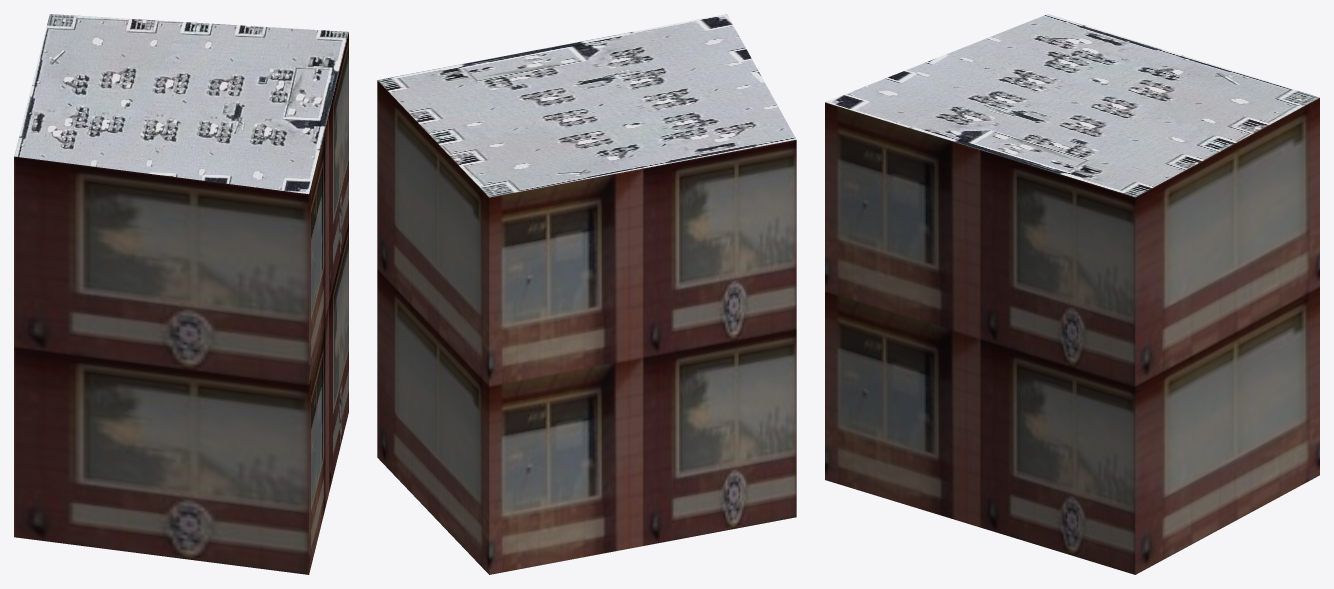
Rendered from ResTex__1951.fbx.
3 views of the same model, side by side, from view 1: azimuth 30°, elevation 25°; view 2: azimuth 150°, elevation 25°; view 3: azimuth 270°, elevation 25° (orthographic).
Parts seen in each view (by area): view 1: CityEngineMaterial_13_m, CityEngineMaterial_4_m; view 2: CityEngineMaterial_13_m, CityEngineMaterial_4_m; view 3: CityEngineMaterial_13_m, CityEngineMaterial_4_m.
Part boxes in pixels (x1,y1,x2,y2): CityEngineMaterial_13_m: (14, 32, 348, 574); CityEngineMaterial_4_m: (14, 14, 348, 194); CityEngineMaterial_13_m: (377, 80, 796, 574); CityEngineMaterial_4_m: (377, 14, 796, 197); CityEngineMaterial_13_m: (825, 98, 1319, 574); CityEngineMaterial_4_m: (825, 14, 1319, 197).
Bounding box in the file's own units: 6.25 × 6 × 7.13.
2 materials, 2 textured.
